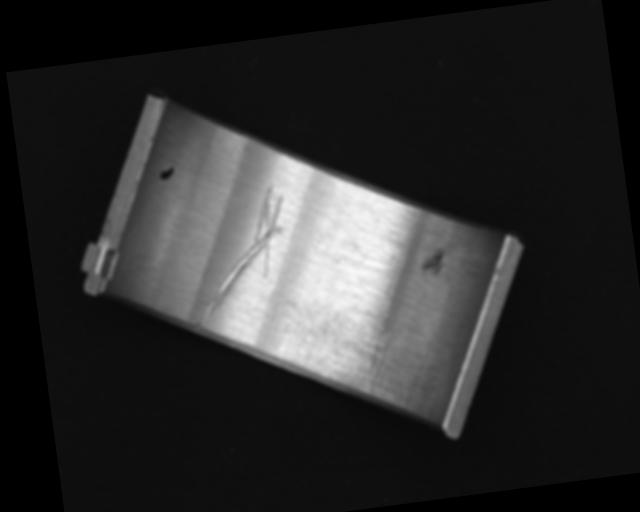blot: (156, 164, 176, 181)
bruise: (420, 248, 448, 277)
nick: (179, 181, 301, 328)
scratch: (292, 305, 412, 417)
